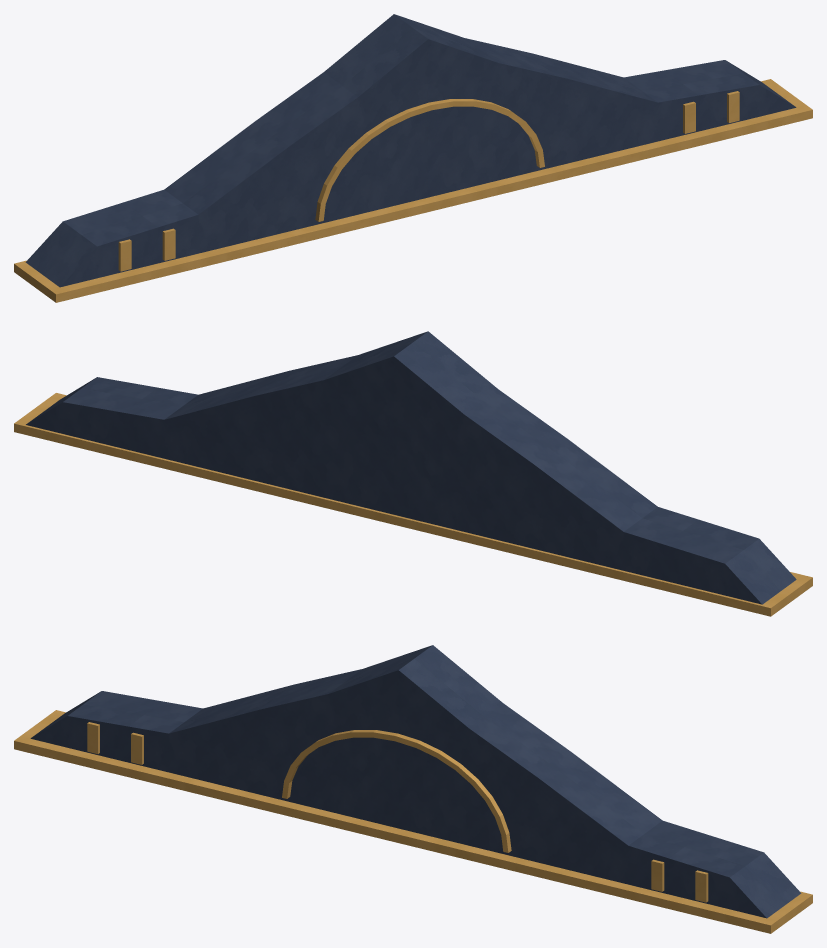
Rendered from SM_Theater_Organ_Crown.fbx.
3 views of the same model, one above another, from view 1: azimuth 30°, elevation 25°; view 2: azimuth 150°, elevation 25°; view 3: azimuth 330°, elevation 25° (orthographic).
Visible parts, largest first — view 1: SM_Theater_Organ_Crown_LOD0; view 2: SM_Theater_Organ_Crown_LOD0; view 3: SM_Theater_Organ_Crown_LOD0.
Boxes of the visible parts, box(x1,y1,x2,y2) form: SM_Theater_Organ_Crown_LOD0: box(14, 14, 812, 302); SM_Theater_Organ_Crown_LOD0: box(14, 331, 812, 616); SM_Theater_Organ_Crown_LOD0: box(14, 645, 812, 933).
Size of what is drawn, in the model's own units: 11.2 by 2.36 by 1.08.
